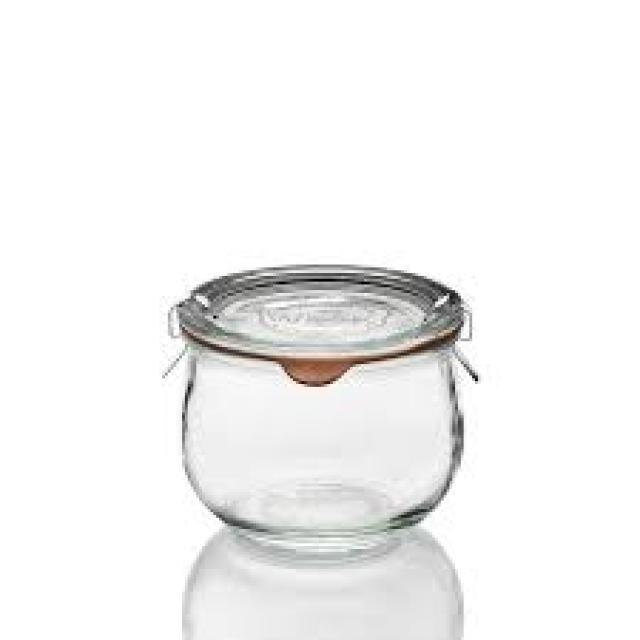Anorganik: (174, 262, 464, 552)
